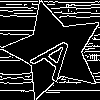A: (29, 26, 87, 83)
